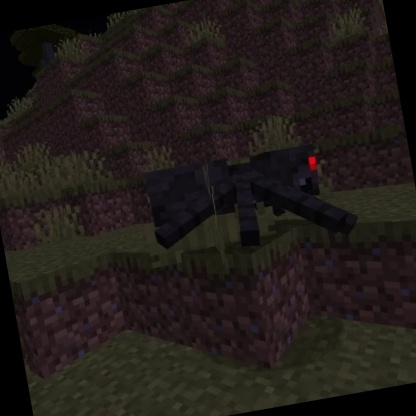spider: (139, 133, 364, 272)
